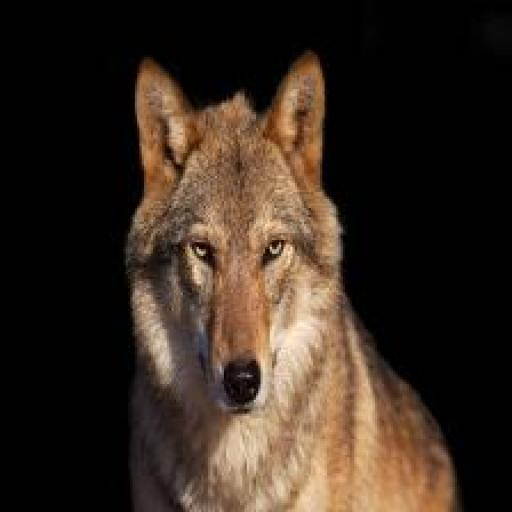wolf: (73, 0, 506, 512)
